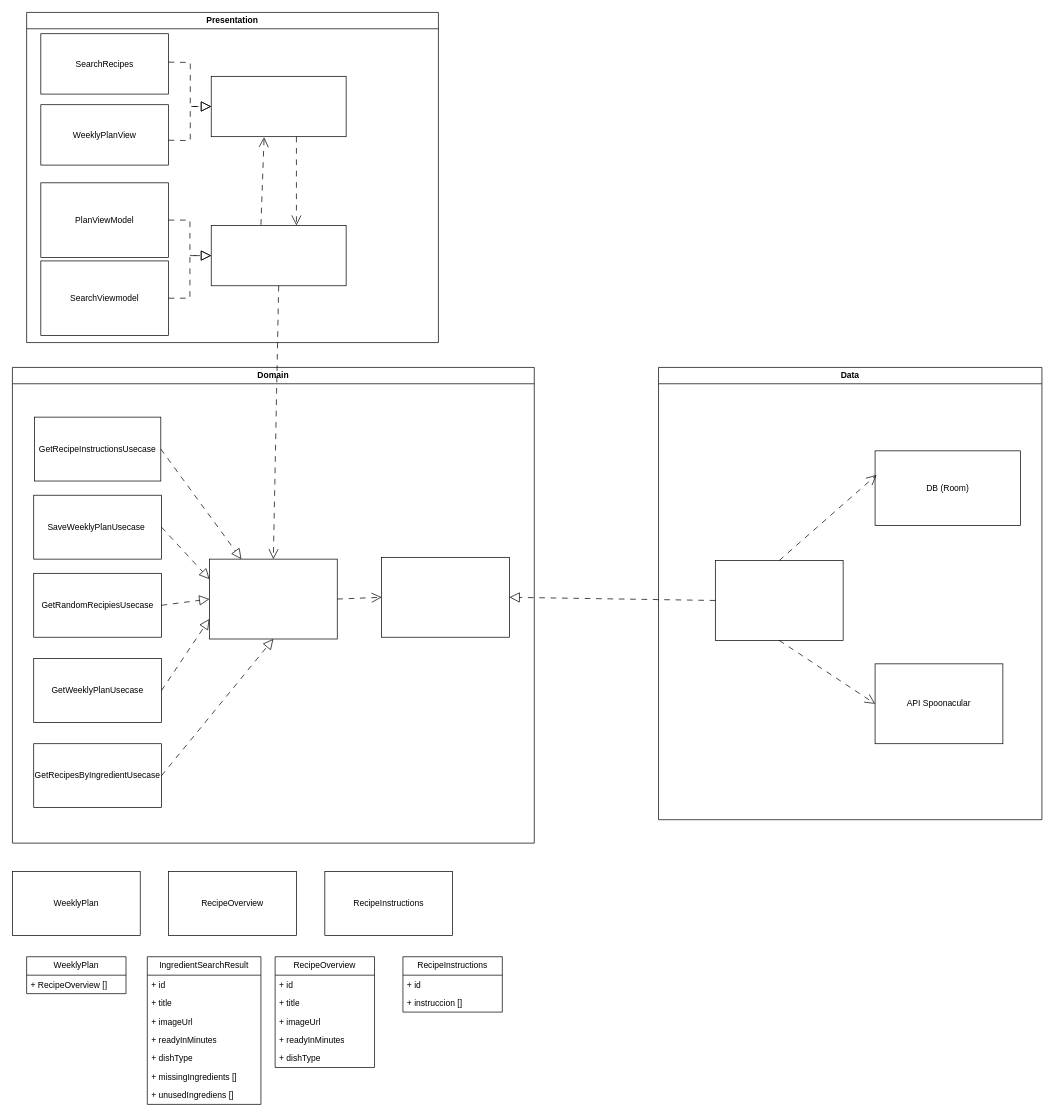
This 1054x1119 diagram has some shape labels left out. Here are the shapes that lost their labels. From the top down, the centre of each, then its label:
point 278,106: View
point 278,255: ViewModel
point 273,598: Usecase
point 445,597: Repository
point 779,600: RepositoryImpl
